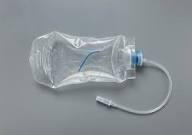Iv_Bottle: (29, 31, 141, 87)
